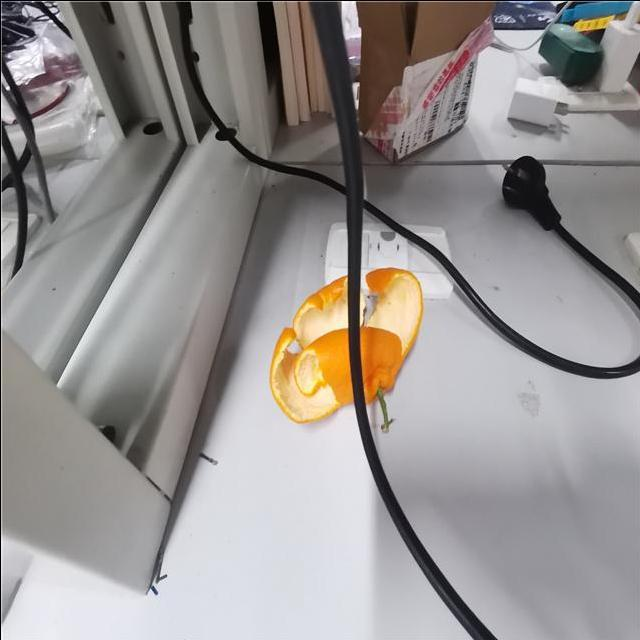orange peel: (266, 268, 423, 424)
